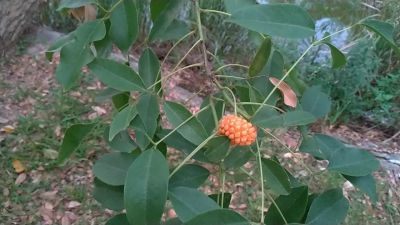eggs: (219, 112, 258, 147)
